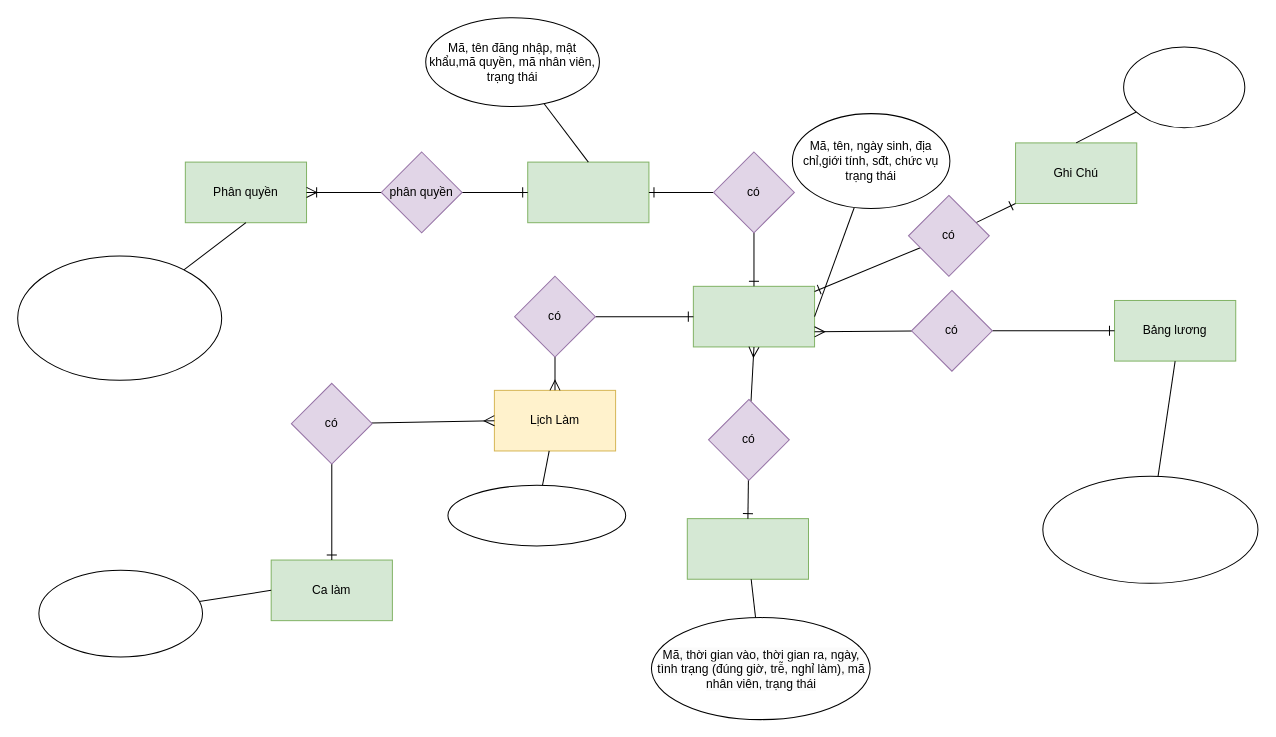
Some shapes in this 1276 by 737 pixel diagram are drawn without their labels. Here are the shapes that lost their labels. From the top down, the box of each, then its label:
(1123, 46, 1245, 128): Mã, nội dung, ngày, status
(527, 161, 649, 223): Tài khoản
(17, 255, 222, 380): Mã, tên ,quyền chấm công, quyền admin, quyền nhân viên.
(692, 285, 815, 347): Nhân viên
(447, 484, 626, 546): Mã, mã ca, mã nhân viên, ngày, trạng thái
(1042, 475, 1258, 583): Mã bảng, mã nhân viên, tháng, năm, tổng lương, phụ cấp, Tình trạng, hệ số lương
(686, 518, 809, 579): Bảng chấm công
(38, 569, 203, 657): Mã ca, tên ca, thời gian vào, thời gian ra, trạng thái
